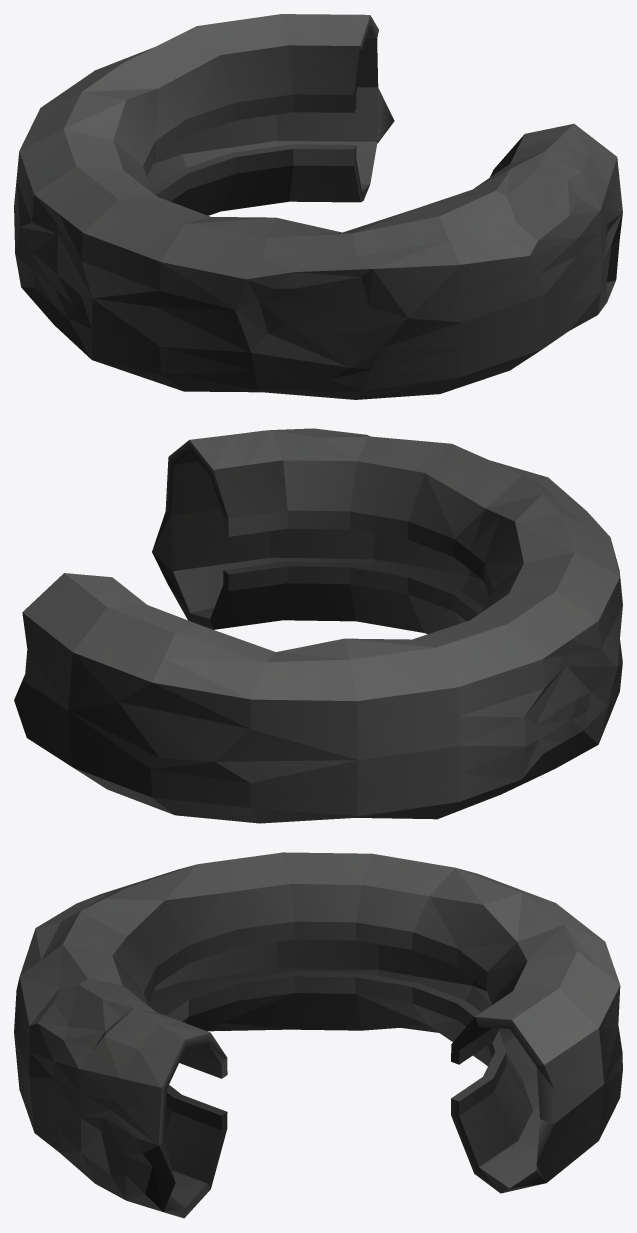
The model's file is car_tire.obj.
The picture shows the model from 3 angles, top to bottom: view 1: azimuth 30°, elevation 25°; view 2: azimuth 150°, elevation 25°; view 3: azimuth 270°, elevation 25°; orthographic projection. The views are drawn at different scales.
Visible parts, largest first — view 1: car_tire_Material; view 2: car_tire_Material; view 3: car_tire_Material.
Boxes of the visible parts, x1=… form: car_tire_Material: x1=14, y1=14, x2=622, y2=399; car_tire_Material: x1=14, y1=428, x2=622, y2=823; car_tire_Material: x1=14, y1=852, x2=622, y2=1218.
Bounding box in the file's own units: 0.7638 × 0.2733 × 0.8173.
